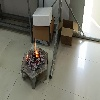fire: (35, 38, 39, 58), (26, 54, 28, 61)
